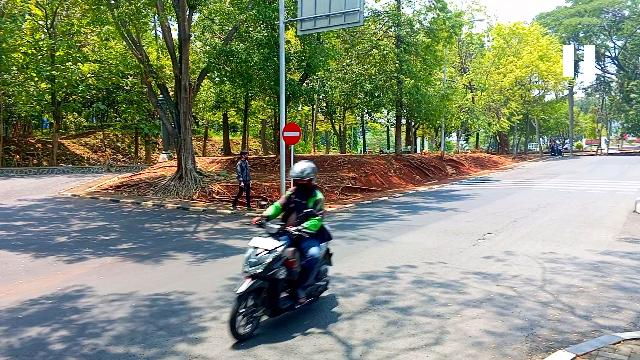helm: (291, 161, 319, 191)
motor: (230, 221, 334, 343)
